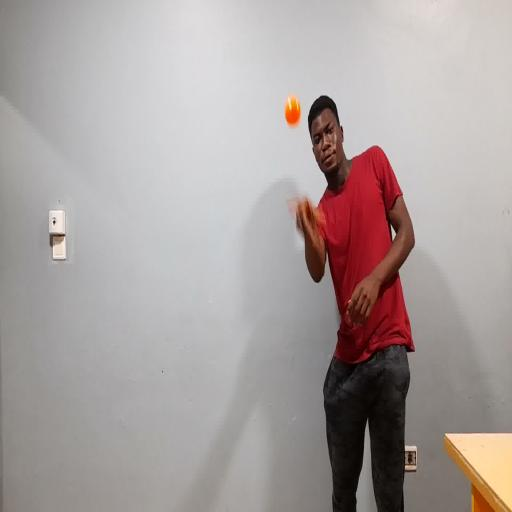plastic-ball: (282, 90, 303, 132)
